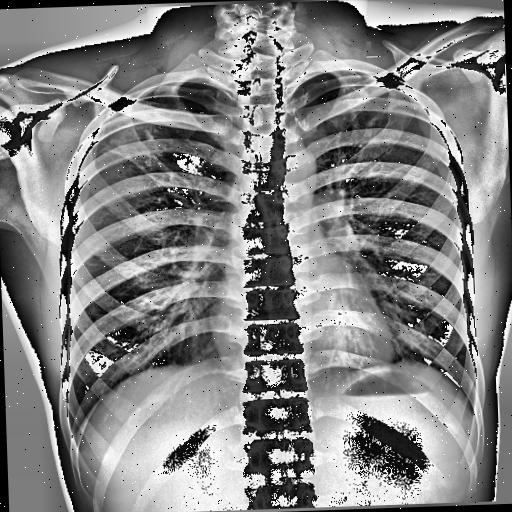13- Pulmonary fibrosis: (337, 80, 407, 138), (330, 72, 388, 138), (98, 124, 166, 172), (343, 82, 410, 128), (98, 122, 170, 163), (94, 122, 158, 167)
